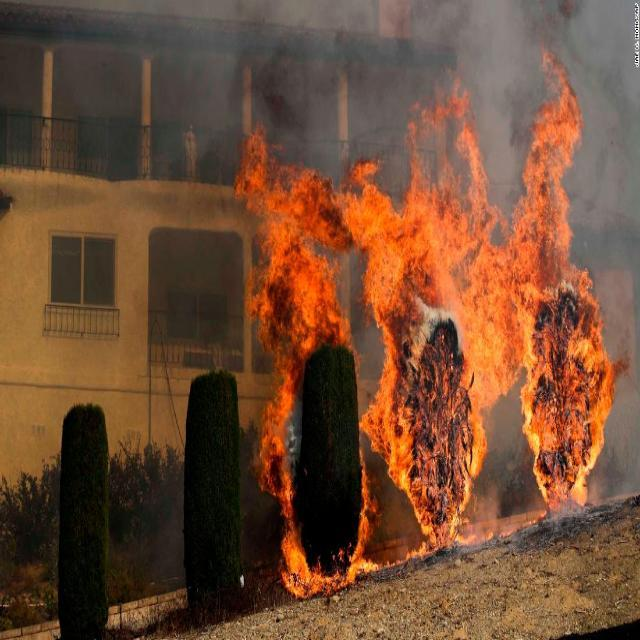Fire: (235, 125, 378, 594), (380, 74, 510, 567), (511, 47, 632, 509)
Smoke: (82, 0, 380, 150), (580, 0, 640, 273), (380, 2, 540, 100), (482, 415, 532, 540), (600, 383, 640, 507), (483, 101, 524, 192)
